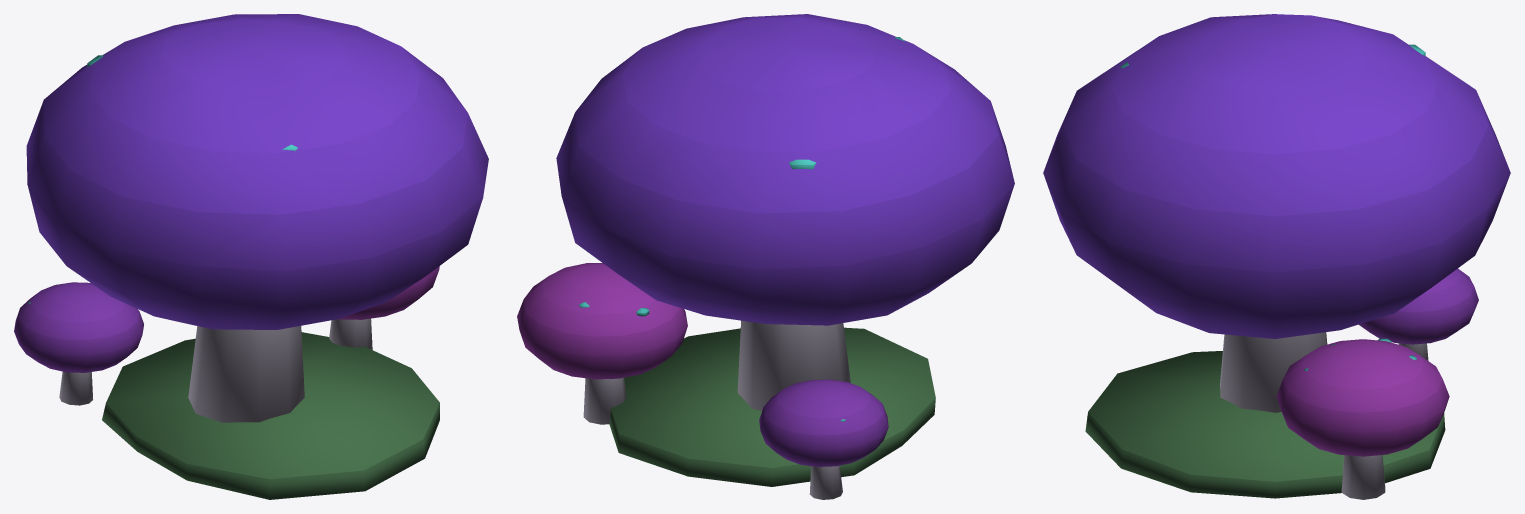
Rendered from giant_mushroom.glb.
3 views of the same model, side by side, from view 1: azimuth 30°, elevation 25°; view 2: azimuth 150°, elevation 25°; view 3: azimuth 270°, elevation 25° (orthographic).
Visible parts, largest first — view 1: giant_mushroom; view 2: giant_mushroom; view 3: giant_mushroom.
Part boxes in pixels (x1,y1,x2,y2): giant_mushroom: [14, 14, 488, 499]; giant_mushroom: [517, 14, 1014, 499]; giant_mushroom: [1043, 14, 1510, 499].
Size of the model in its own units: 1.75 by 1.59 by 1.7.
